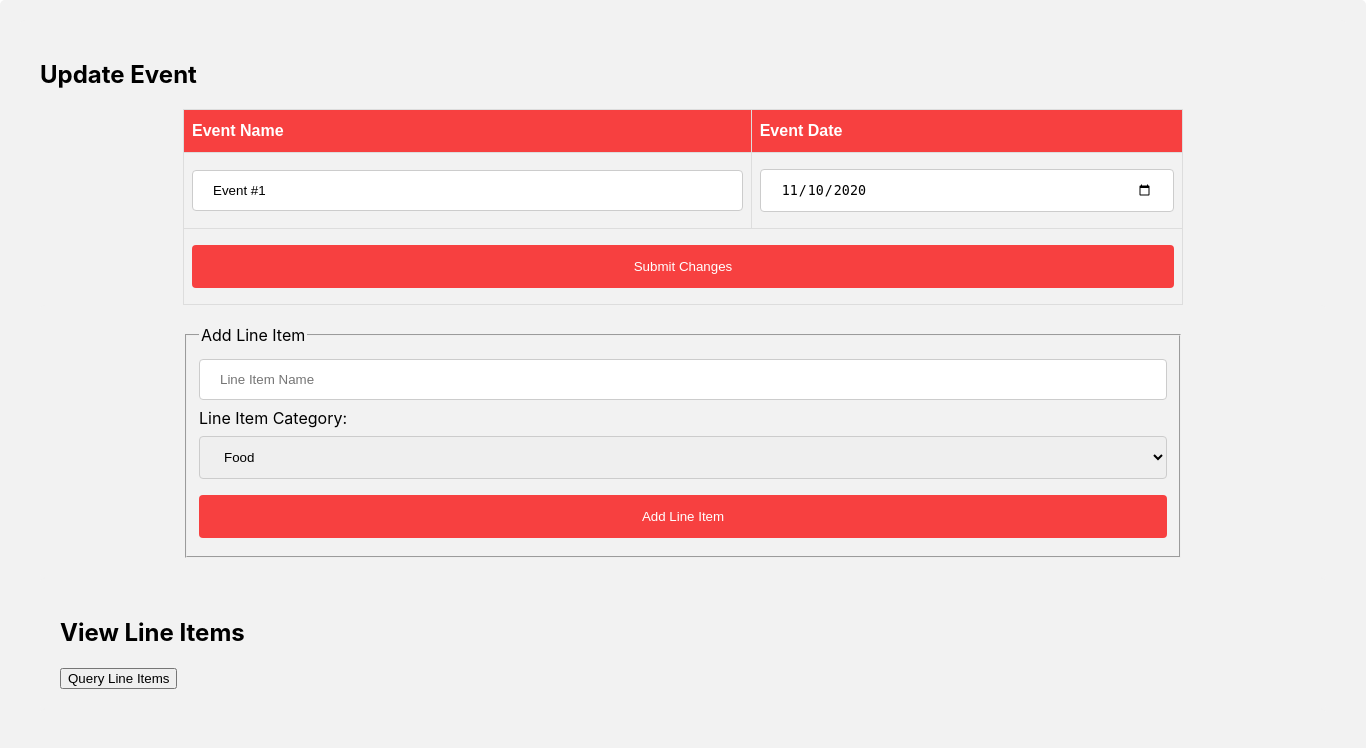
Test: successfully edits event name and date
The image size is (1366, 748).
Note: Set values
Replace the text in the 1st field with "New Event Name" at [467, 190], box left=192, top=170, right=743, bottom=211
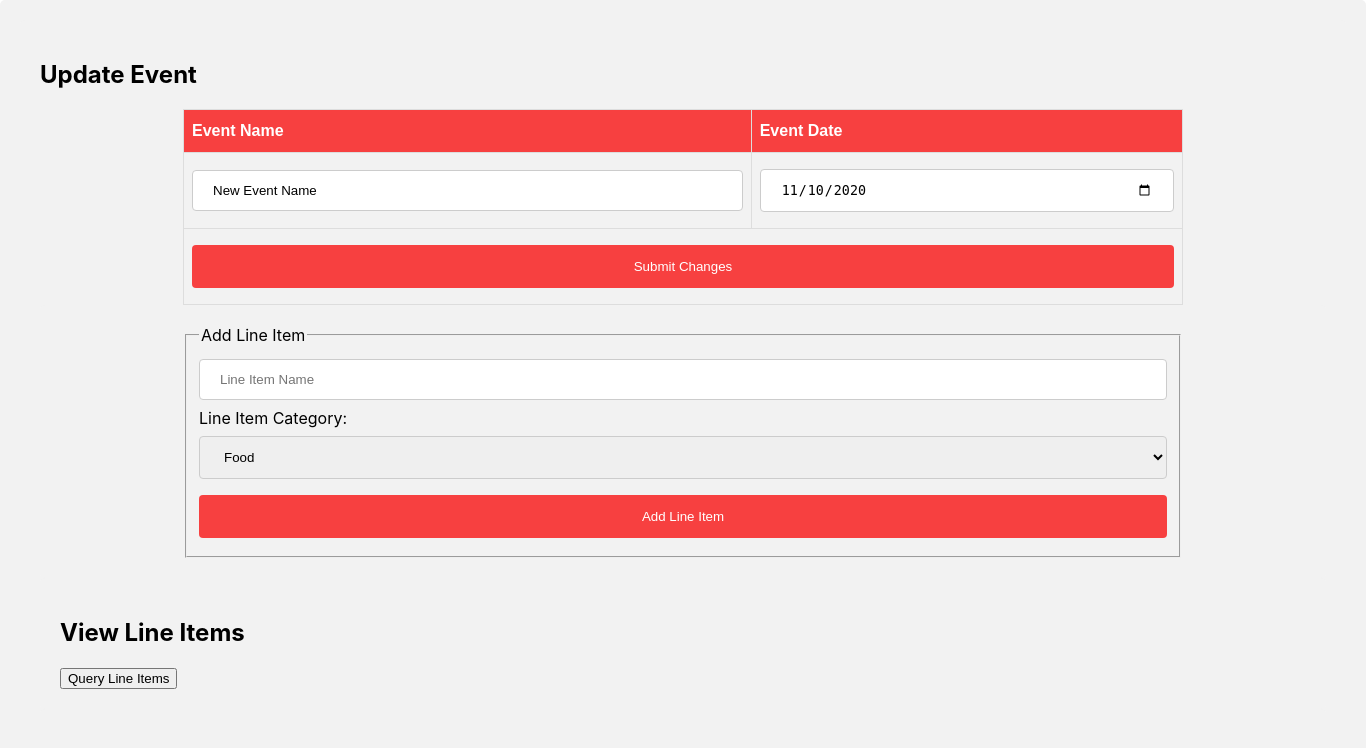
Type "2020-11-12" into the date field at [967, 190], box left=760, top=169, right=1174, bottom=212
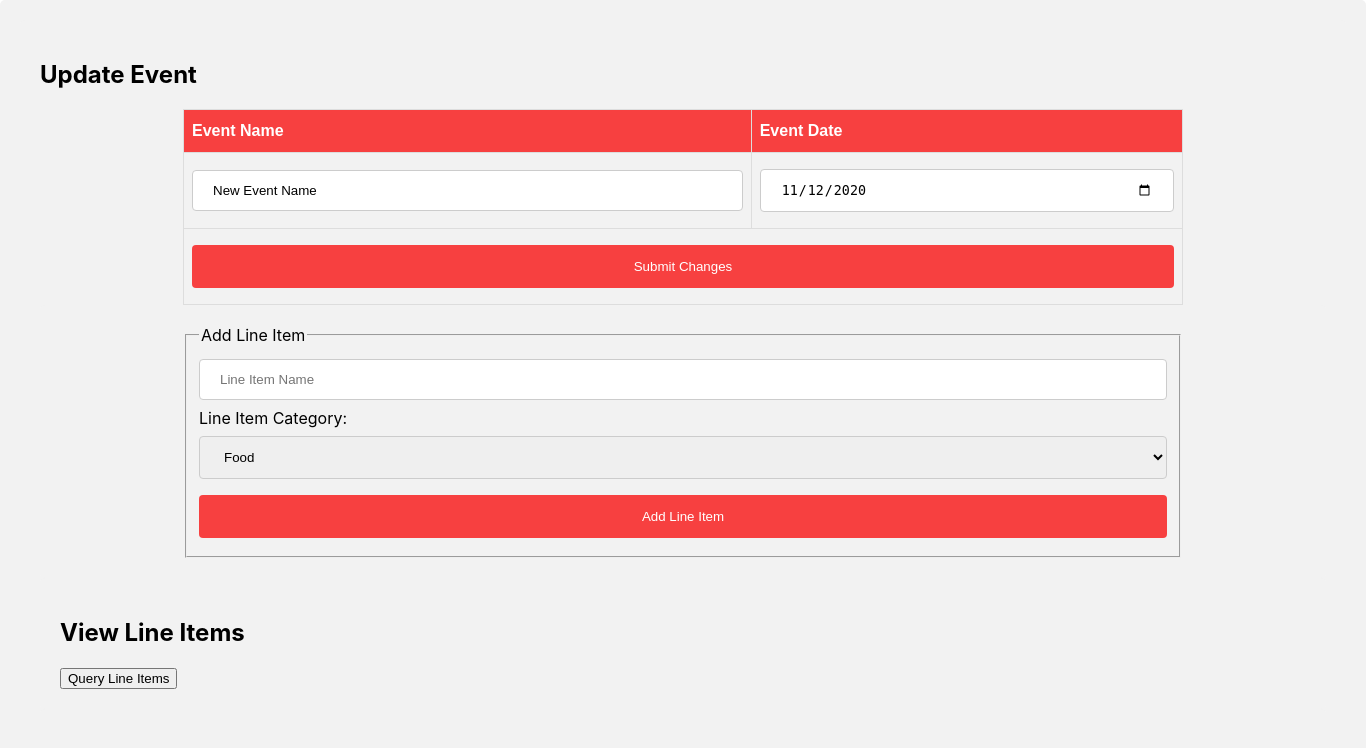
Note: Make request
Click the button "Submit Changes" at [683, 267], box left=192, top=245, right=1174, bottom=288
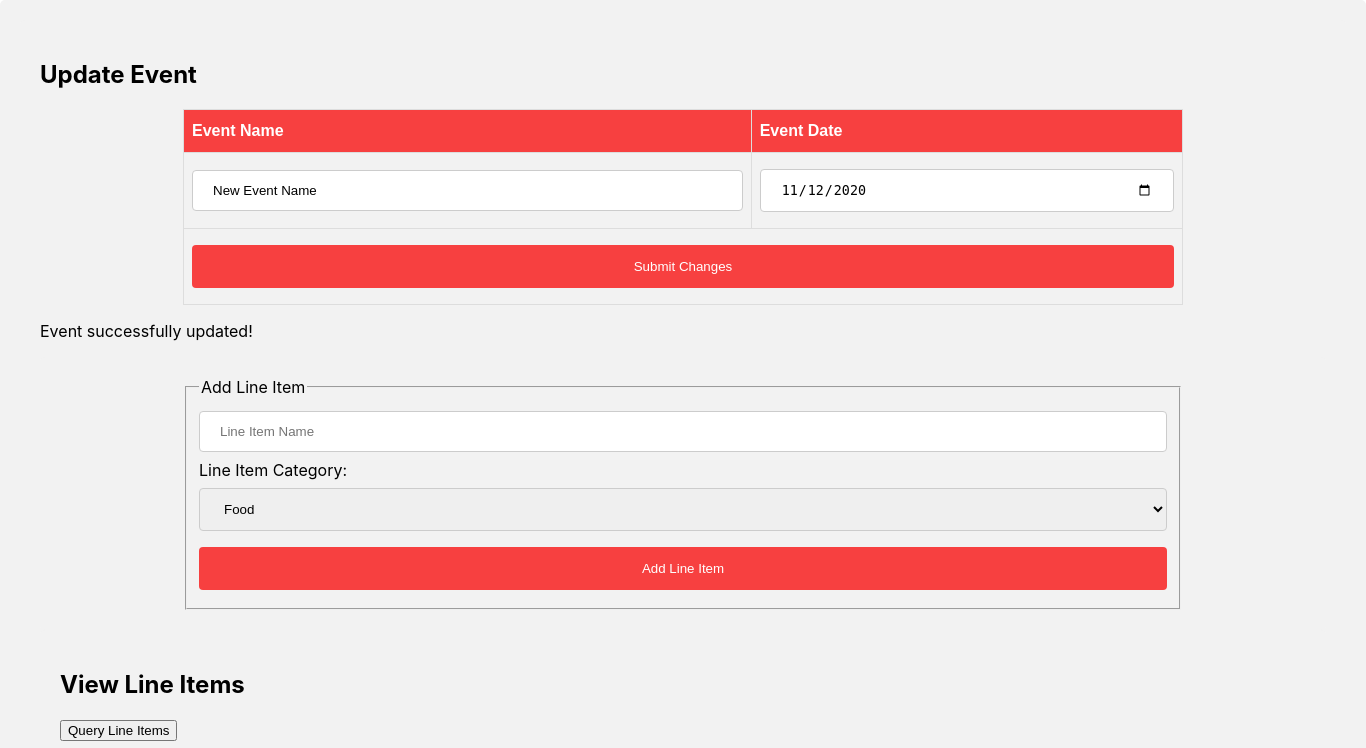
Now the text "Event successfully updated!" is shown, box left=40, top=321, right=253, bottom=341
